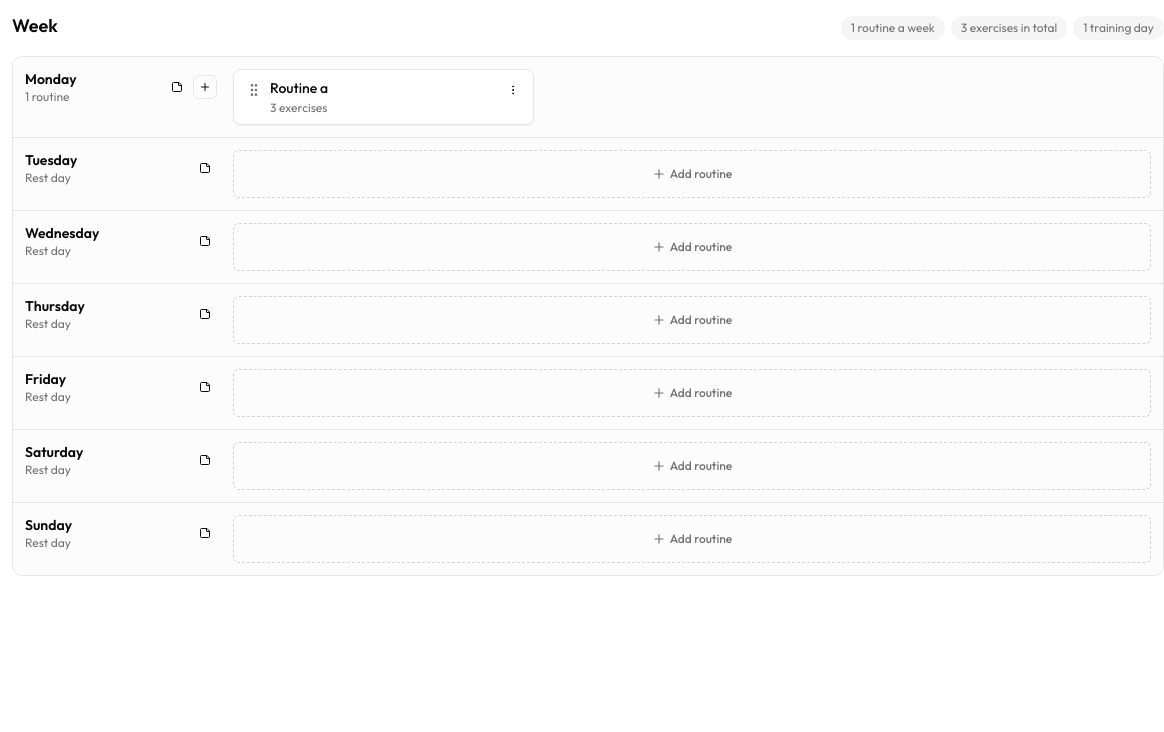
PlanBoard layout › gives a rest day one dashed add button instead of the plus
Check: the button named "Add routine to Monday" does not show "Add routine", box [193,75,217,99]
Click the button with aria-label "Add routine to" at (692, 174), box [233,150,1151,198]
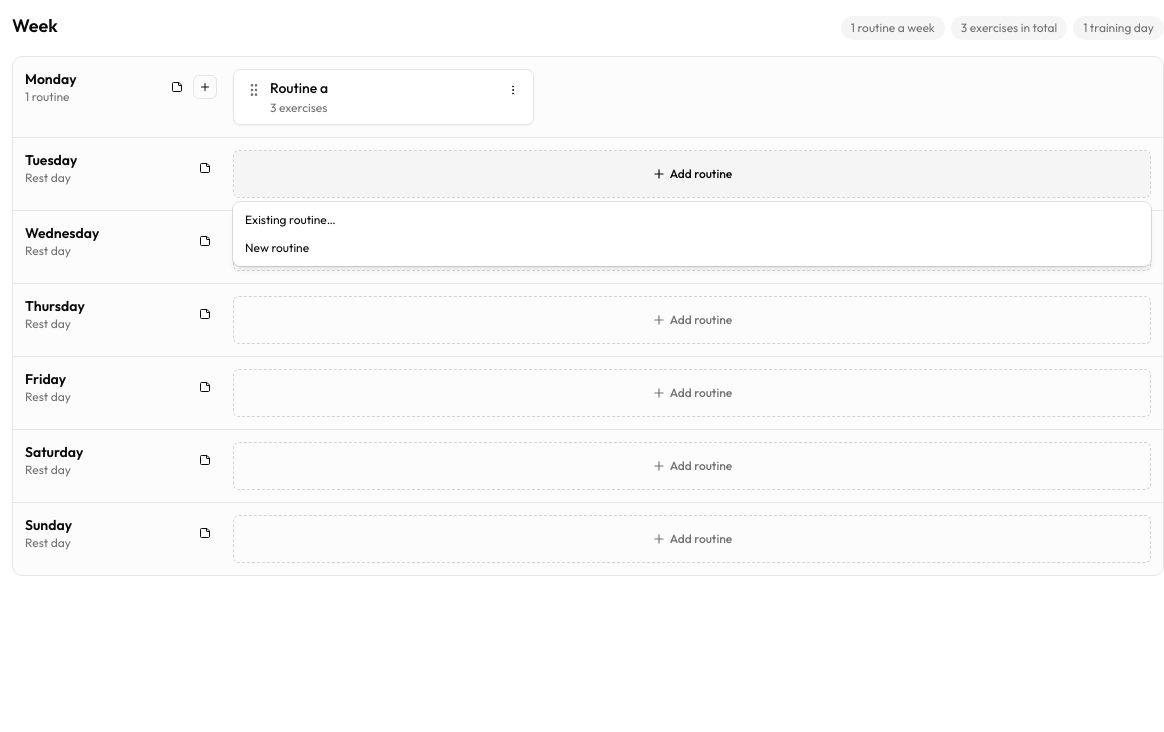
Check: the menu item "New routine" is shown, box [245,240,309,255]
